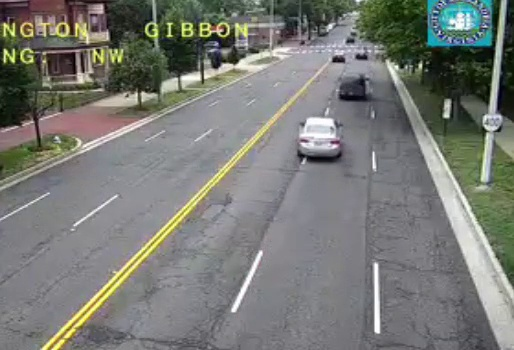car: (298, 117, 342, 158), (338, 74, 366, 98)
